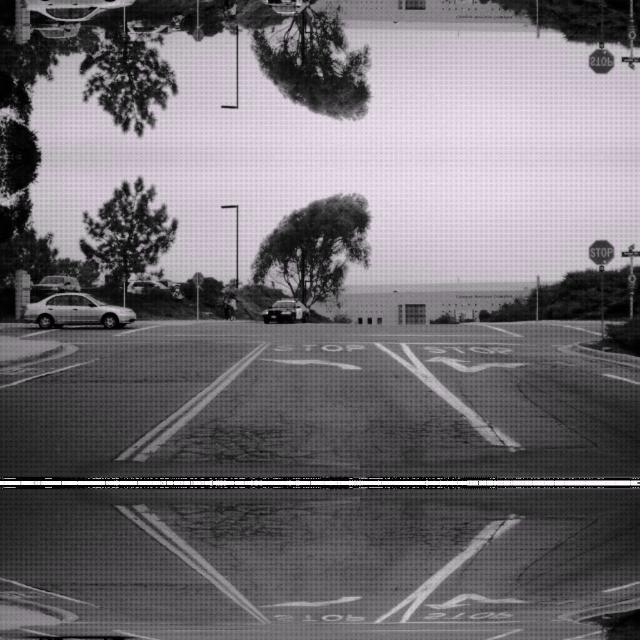stop: (587, 238, 613, 264), (587, 48, 613, 74)
